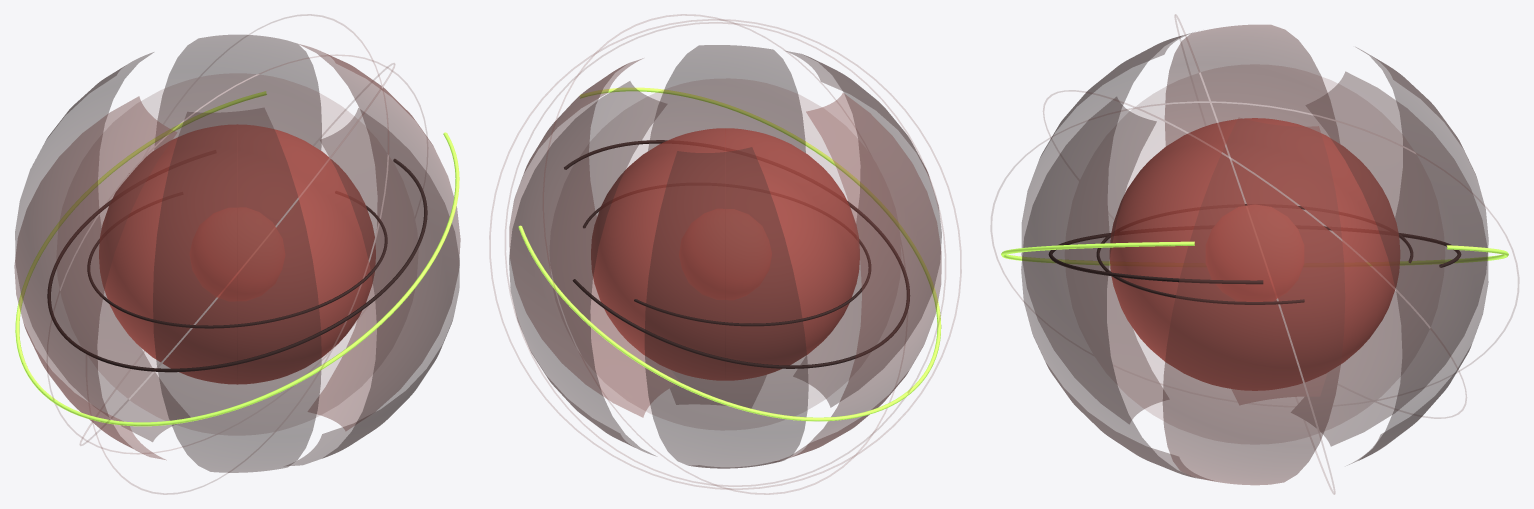
File: security-immune.glb
3 renders of one model, left to right at view 1: azimuth 30°, elevation 25°; view 2: azimuth 150°, elevation 25°; view 3: azimuth 270°, elevation 25°, orthographic. The views are drawn at different scales.
Parts seen in each view (by area): view 1: IMMUNE_CELL, SHIELD_01, SHIELD_00, SHIELD_05, SHIELD_03, SHIELD_02, CONTAINMENT_MEMBRANE, SHIELD_04, TRACE_NUCLEUS, DETECTION_L3, DETECTION_L2, DETECTION_L1 (+3 smaller); view 2: IMMUNE_CELL, SHIELD_05, SHIELD_04, SHIELD_00, SHIELD_03, SHIELD_01, CONTAINMENT_MEMBRANE, SHIELD_02, TRACE_NUCLEUS, DETECTION_L3, DETECTION_L2, IMMUNE_LATTICE_01 (+3 smaller); view 3: IMMUNE_CELL, SHIELD_03, SHIELD_04, SHIELD_05, SHIELD_01, SHIELD_02, CONTAINMENT_MEMBRANE, SHIELD_00, TRACE_NUCLEUS, DETECTION_L3, DETECTION_L2, DETECTION_L1 (+3 smaller).
Boxes of the visible parts, <box> form: IMMUNE_CELL: <box>99,124,375,384</box>; SHIELD_01: <box>153,108,321,472</box>; SHIELD_00: <box>14,96,176,459</box>; SHIELD_05: <box>15,52,189,441</box>; SHIELD_03: <box>299,44,460,430</box>; SHIELD_02: <box>287,108,459,465</box>; CONTAINMENT_MEMBRANE: <box>98,74,376,420</box>; SHIELD_04: <box>155,35,321,149</box>; TRACE_NUCLEUS: <box>190,208,284,300</box>; DETECTION_L3: <box>15,91,459,426</box>; DETECTION_L2: <box>47,159,427,372</box>; DETECTION_L1: <box>87,205,387,328</box>; IMMUNE_CELL: <box>591,128,859,380</box>; SHIELD_05: <box>645,147,808,468</box>; SHIELD_04: <box>509,81,667,455</box>; SHIELD_00: <box>776,93,941,461</box>; SHIELD_03: <box>509,58,679,417</box>; SHIELD_01: <box>786,51,941,407</box>; CONTAINMENT_MEMBRANE: <box>591,79,861,413</box>; SHIELD_02: <box>648,45,805,407</box>; TRACE_NUCLEUS: <box>679,209,771,299</box>; DETECTION_L3: <box>518,87,941,421</box>; DETECTION_L2: <box>564,140,909,368</box>; IMMUNE_LATTICE_01: <box>489,19,961,489</box>; IMMUNE_CELL: <box>1109,118,1400,390</box>; SHIELD_03: <box>1163,117,1344,484</box>; SHIELD_04: <box>1305,71,1488,464</box>; SHIELD_05: <box>1291,47,1488,446</box>; SHIELD_01: <box>1021,32,1192,423</box>; SHIELD_02: <box>1021,97,1212,480</box>; CONTAINMENT_MEMBRANE: <box>1107,65,1401,430</box>; SHIELD_00: <box>1165,25,1339,404</box>; TRACE_NUCLEUS: <box>1206,205,1303,301</box>; DETECTION_L3: <box>1001,241,1508,265</box>; DETECTION_L2: <box>1048,226,1461,284</box>; DETECTION_L1: <box>1096,204,1413,304</box>.
Bounding box in the file's own units: 1.79 × 1.74 × 1.89.
